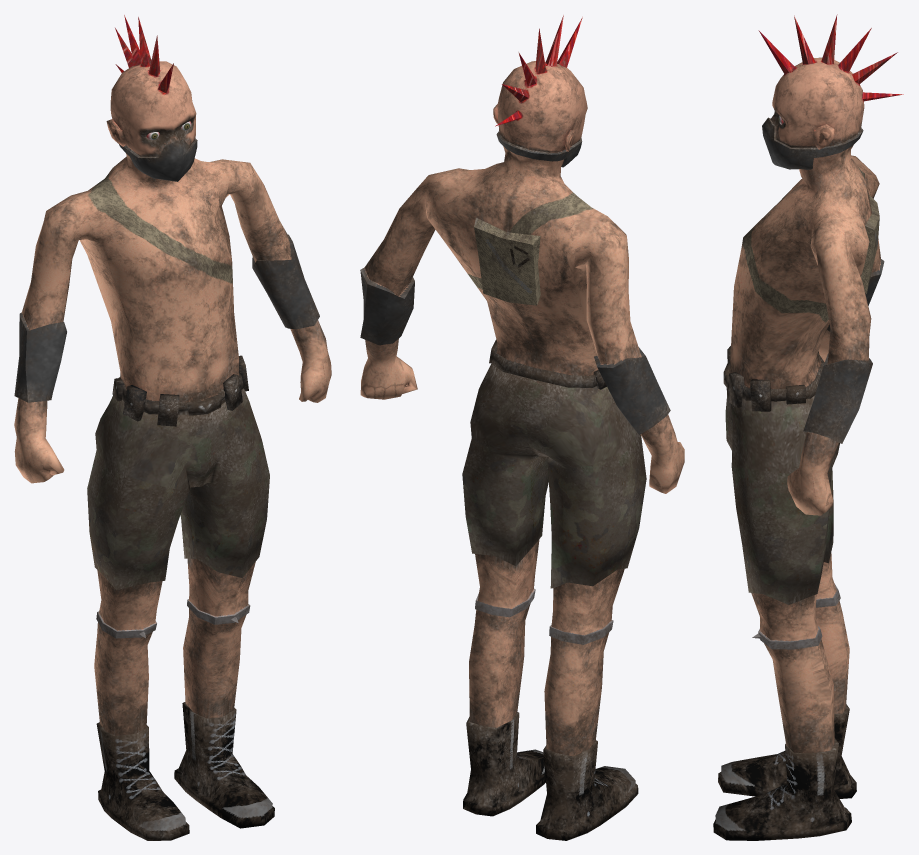
Rendered from Anim_perder_1_npc2.0018.obj.
3 renders of one model, left to right at view 1: azimuth 30°, elevation 25°; view 2: azimuth 150°, elevation 25°; view 3: azimuth 270°, elevation 25°, orthographic. The views are drawn at different scales.
Parts seen in each view (by area): view 1: polySurface1; view 2: polySurface1; view 3: polySurface1.
Part boxes in pixels (box(x1,y1,x2,y2)): polySurface1: box(14, 15, 331, 840); polySurface1: box(360, 15, 684, 840); polySurface1: box(713, 14, 903, 840).
Size of the model in its own units: 4.2 by 10.11 by 2.23.
2 materials, 2 textured.
